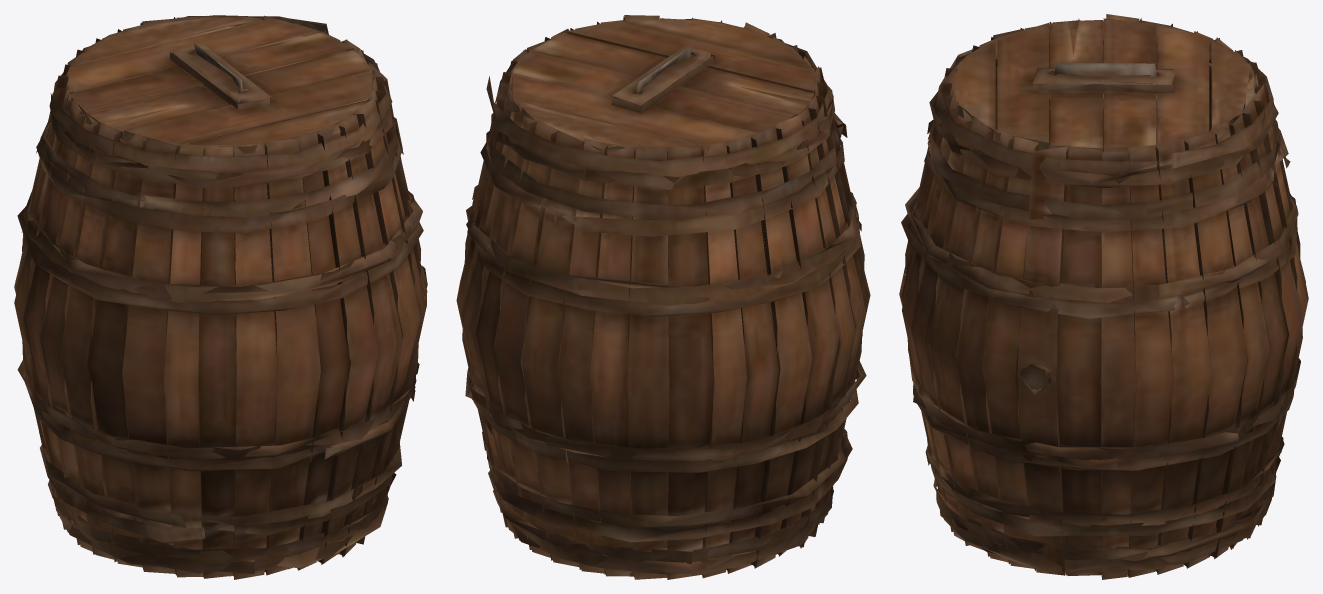
File: barrel_b.glb
3 views of the same model, side by side, from view 1: azimuth 30°, elevation 25°; view 2: azimuth 150°, elevation 25°; view 3: azimuth 270°, elevation 25° (orthographic).
Visible parts, largest first — view 1: wooden_barrels_01_barrel02; view 2: wooden_barrels_01_barrel02; view 3: wooden_barrels_01_barrel02.
Part boxes in pixels (x1,y1,x2,y2): wooden_barrels_01_barrel02: [14, 15, 427, 579]; wooden_barrels_01_barrel02: [456, 15, 870, 579]; wooden_barrels_01_barrel02: [899, 14, 1308, 579].
Size of the model in its own units: 0.7616 by 0.9212 by 0.7616.
1 material, 1 textured.
